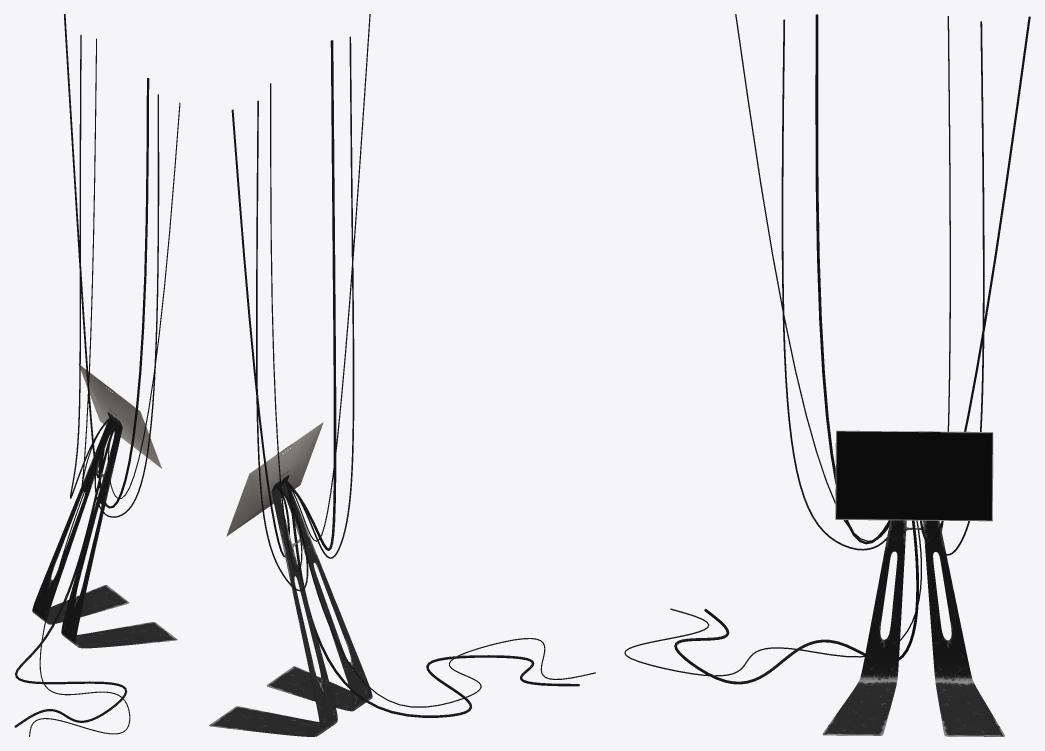
The model's file is Screen.fbx.
3 renders of one model, left to right at view 1: azimuth 30°, elevation 25°; view 2: azimuth 150°, elevation 25°; view 3: azimuth 270°, elevation 25°, orthographic. The views are drawn at different scales.
Visible parts, largest first — view 1: Stand Screen Mesh; view 2: Stand Screen Mesh; view 3: Stand Screen Mesh.
Boxes of the visible parts, box(x1,y1,x2,y2) form: Stand Screen Mesh: box(14, 14, 180, 736); Stand Screen Mesh: box(209, 14, 595, 736); Stand Screen Mesh: box(624, 14, 1030, 736).
Size of the model in its own units: 571 by 1464 by 767.
1 material, 1 textured.
